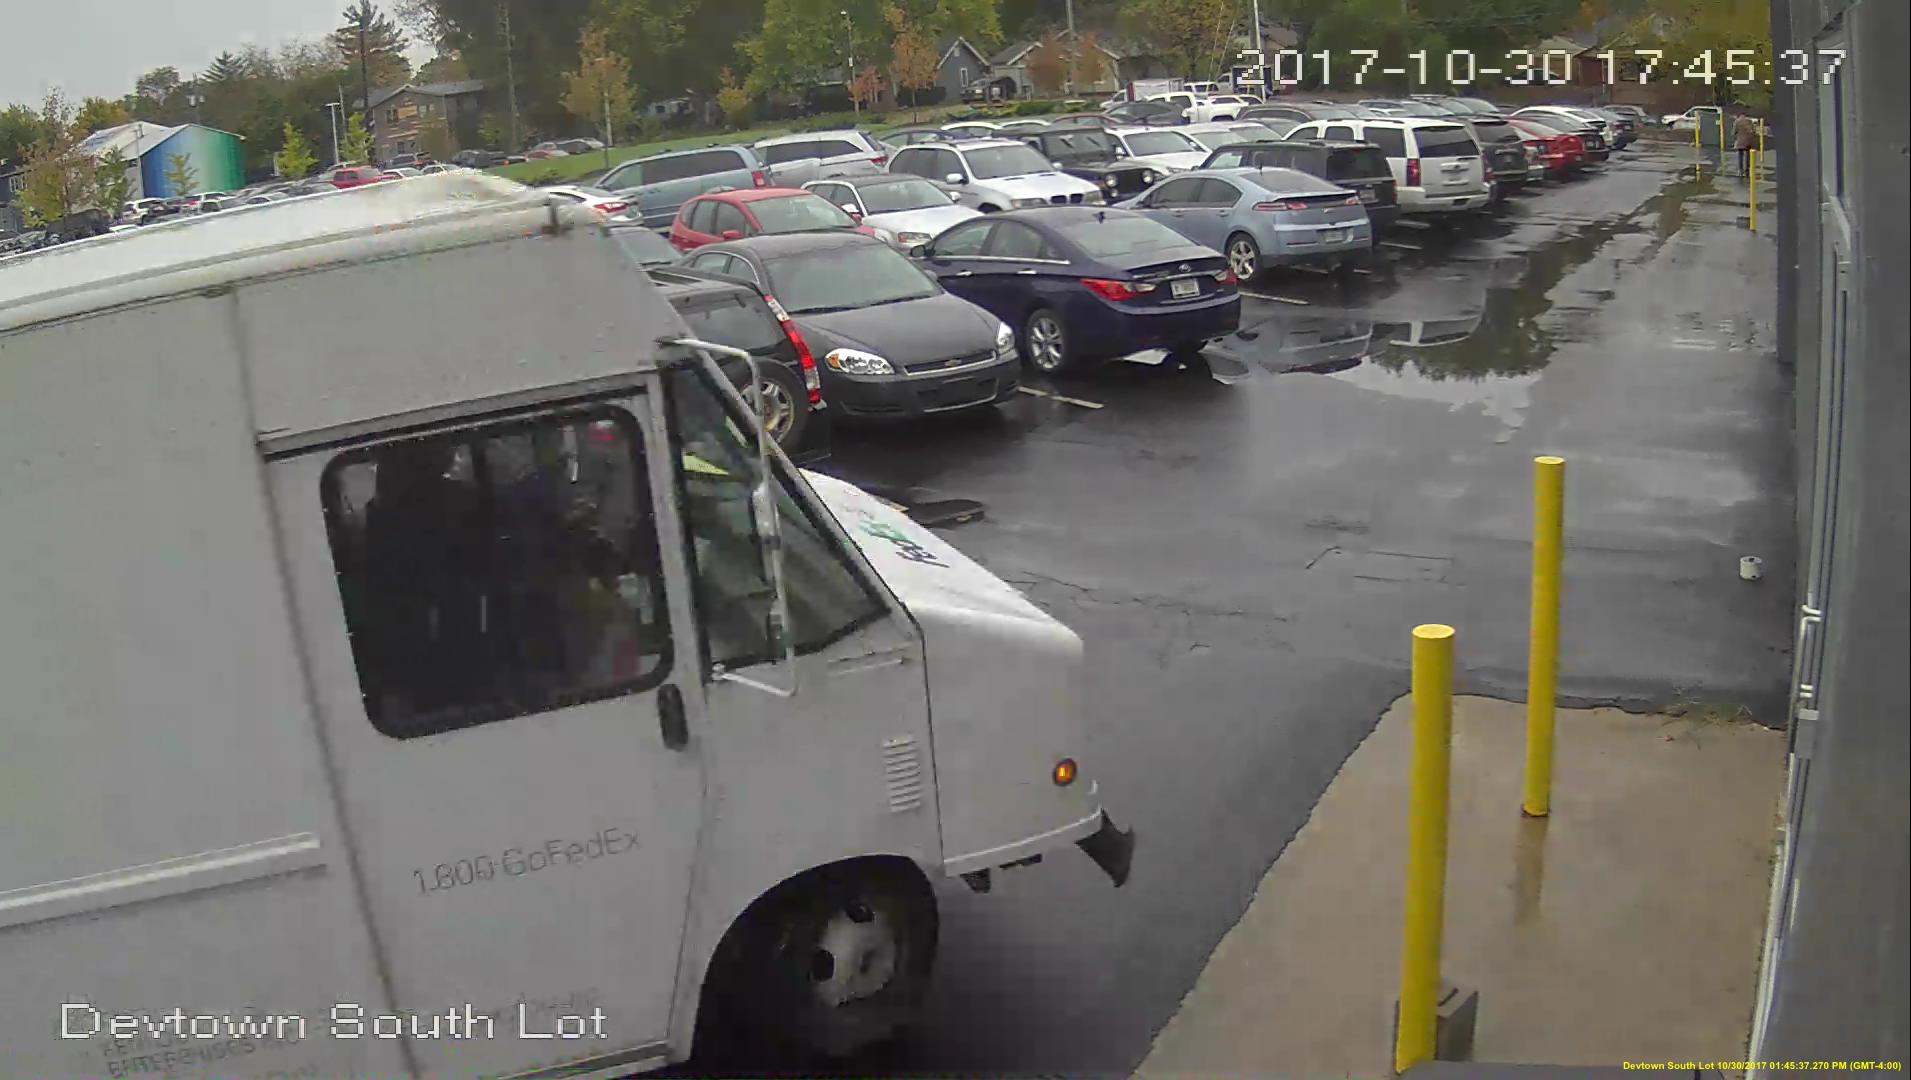fedex_truck: (1, 171, 1059, 1075)
